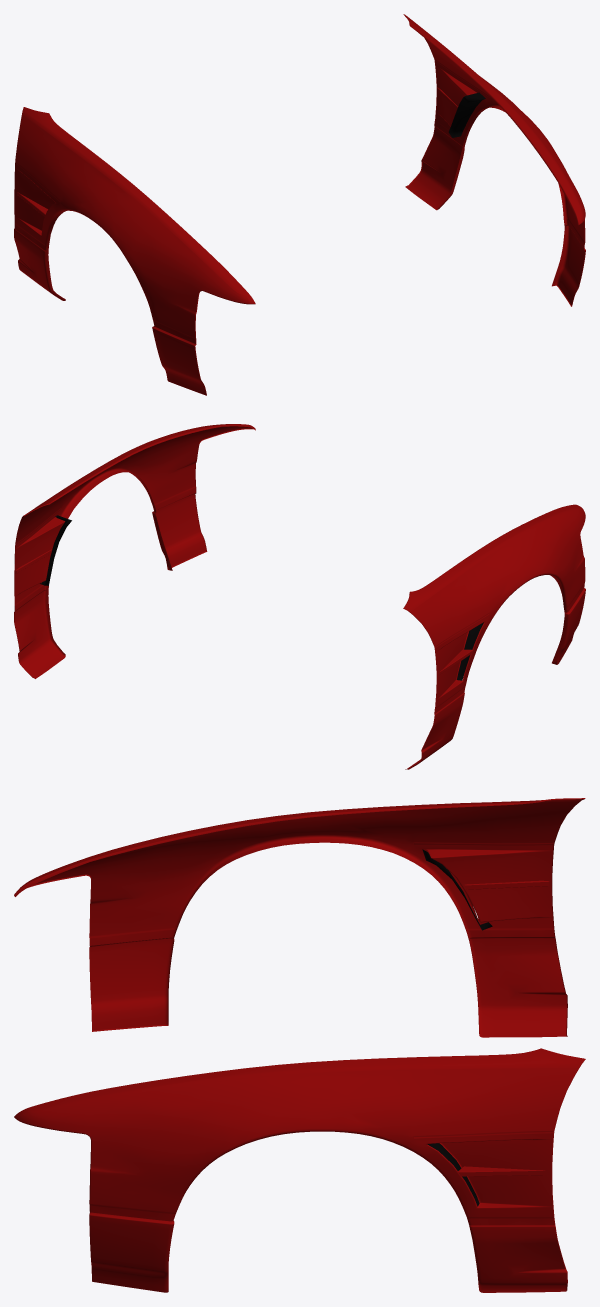
Rendered from frontfenders_originlabofujin.glb.
3 views of the same model, one above another, from view 1: azimuth 30°, elevation 25°; view 2: azimuth 150°, elevation 25°; view 3: azimuth 270°, elevation 25° (orthographic). The views are drawn at different scales.
Parts seen in each view (by area): view 1: Fender, Cover; view 2: Fender, Cover; view 3: Fender, Cover.
Boxes of the visible parts, bbox=[...] form: Fender: bbox=[14, 14, 585, 395]; Cover: bbox=[448, 92, 485, 137]; Fender: bbox=[14, 424, 585, 769]; Cover: bbox=[40, 515, 483, 680]; Fender: bbox=[14, 798, 585, 1292]; Cover: bbox=[422, 849, 492, 1206].
Bounding box in the file's own units: 1.72 × 0.6539 × 1.41.
